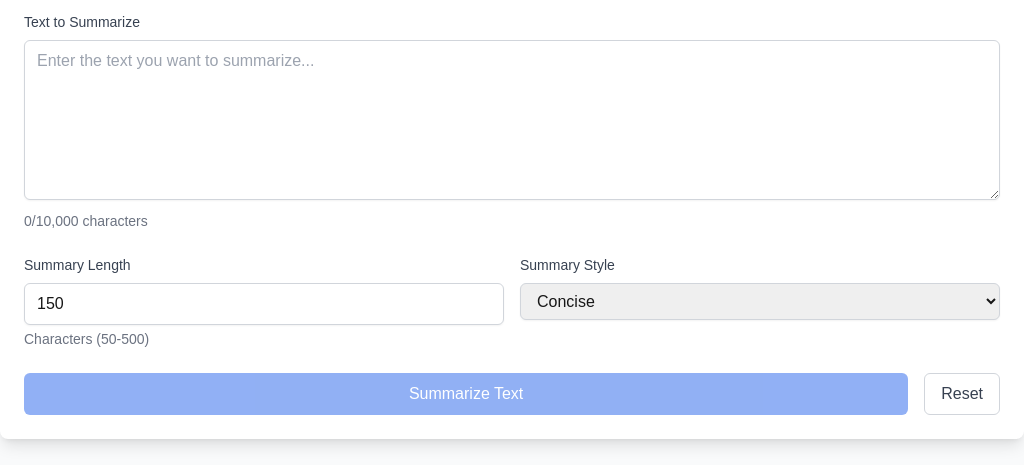
Test: Summarization Component › shows character count for text input
This screenshot has width=1024, height=465.
Type "Hello world" into the text box labelled "Text to Summarize" at (512, 120), box [24,40,1000,200]
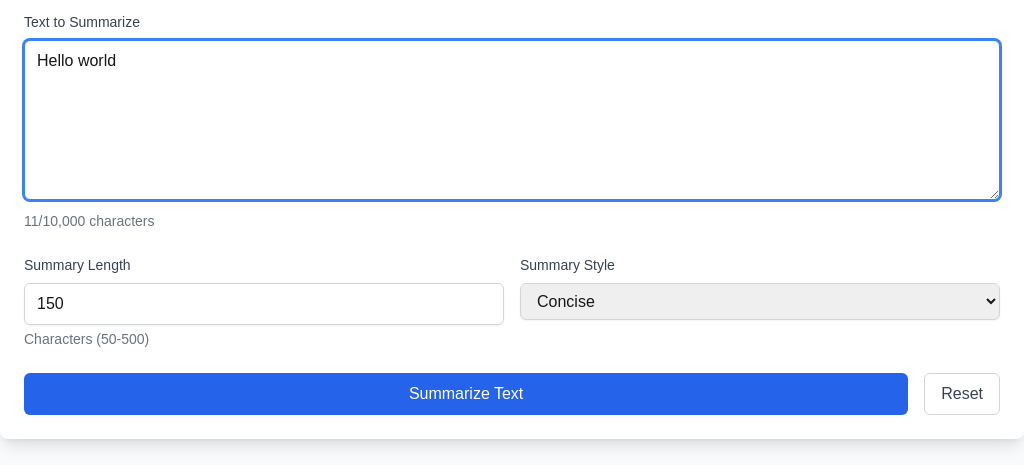
Expected: the text "11/10,000 characters" is shown, [24,213,154,229]
